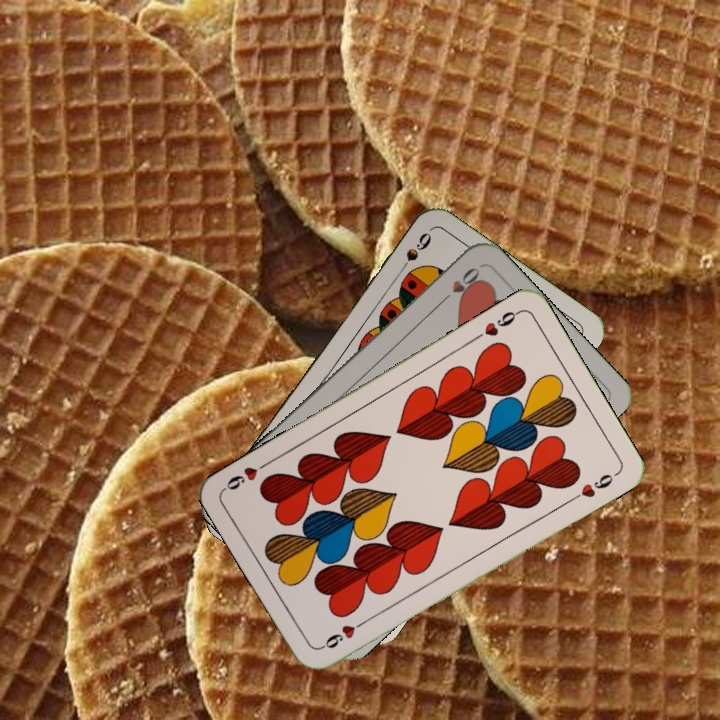H9: (470, 306, 523, 343), (317, 615, 370, 652)
HO: (435, 263, 483, 307)
S9: (393, 228, 435, 279)
